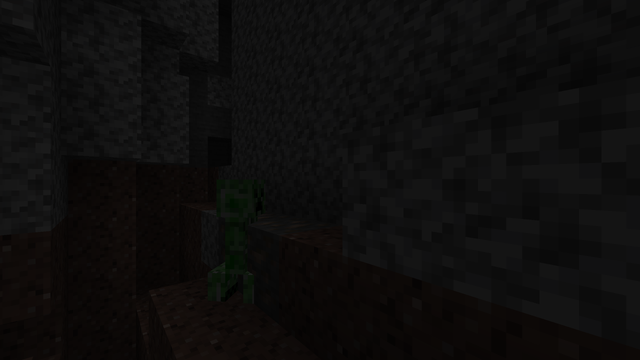creepers: (213, 173, 271, 308)
